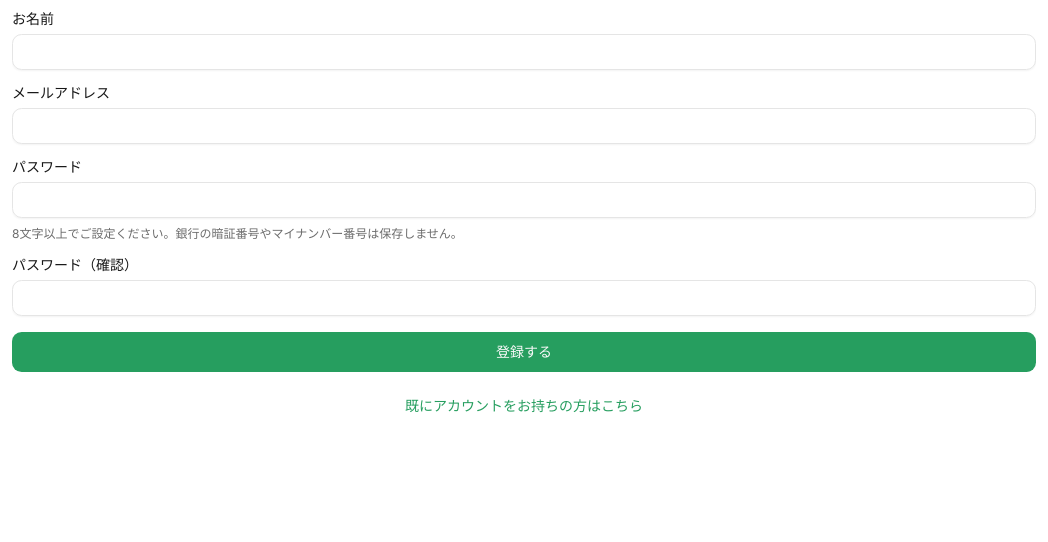
Scenario: RegisterForm › shows Zod validation errors for all required fields on empty submit
This screenshot has width=1048, height=542.
Click the button "登録する". click: (524, 352)
box: [12, 332, 1036, 372]
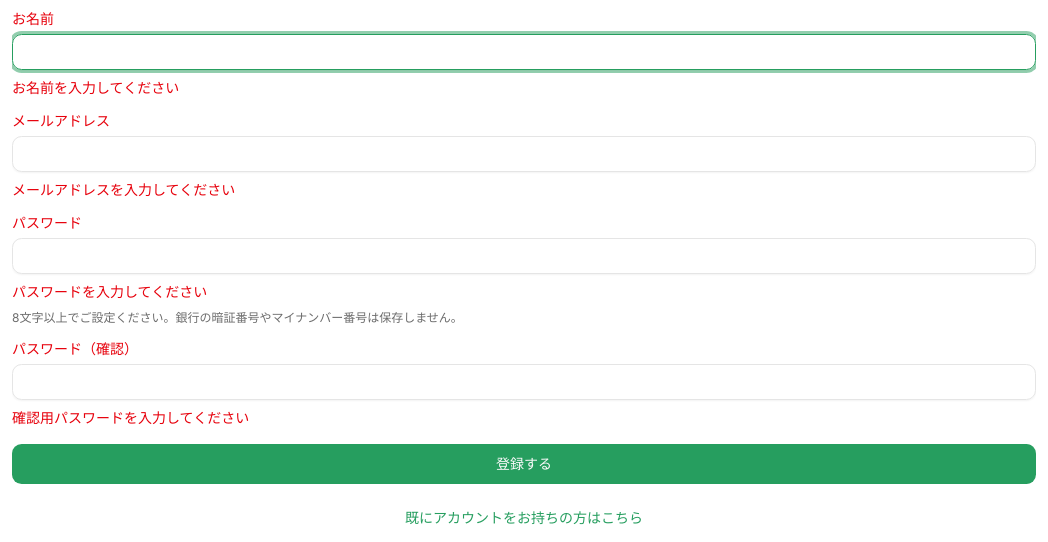
Check: the text "お名前を入力してください" is shown, box [12, 79, 179, 96]
Check: the text "メールアドレスを入力してください" is shown, box [12, 181, 235, 198]
Check: the text "パスワードを入力してください" is shown, box [12, 283, 207, 300]
